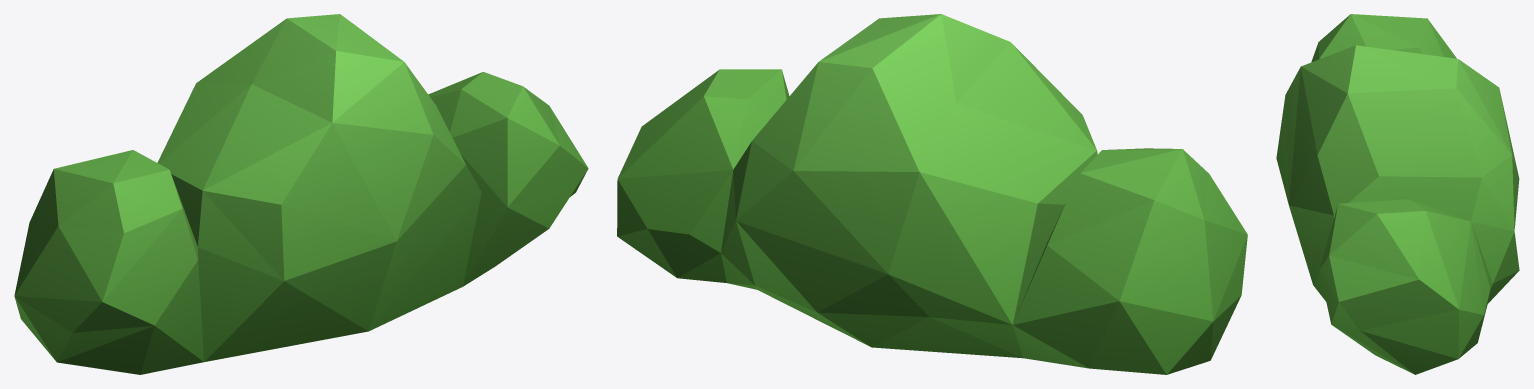
File: Bush_Crown_Green_01.fbx
3 views of the same model, side by side, from view 1: azimuth 30°, elevation 25°; view 2: azimuth 150°, elevation 25°; view 3: azimuth 270°, elevation 25° (orthographic). The views are drawn at different scales.
Visible parts, largest first — view 1: Bush_Crown_Green; view 2: Bush_Crown_Green; view 3: Bush_Crown_Green.
Boxes of the visible parts, x1,y1,x2,y2 form: Bush_Crown_Green: (14, 14, 588, 374); Bush_Crown_Green: (617, 14, 1247, 374); Bush_Crown_Green: (1276, 14, 1519, 374).
Size of the model in its own units: 3.2 by 1.5 by 1.4.
